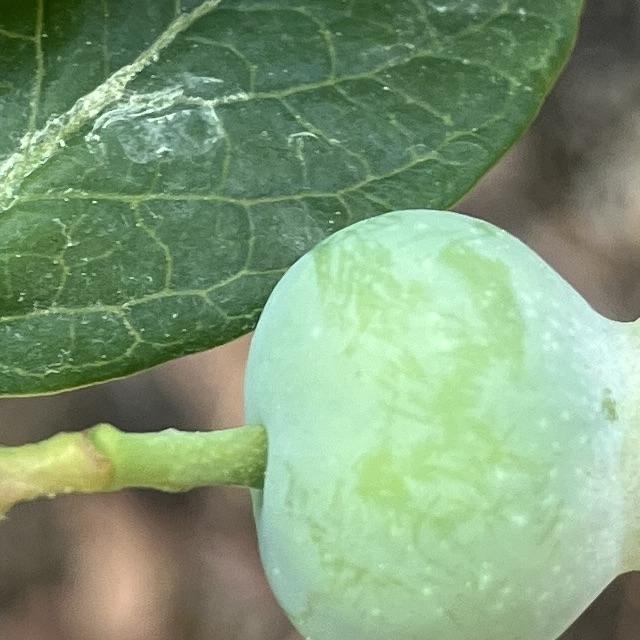Blueberries: (236, 202, 640, 640)
